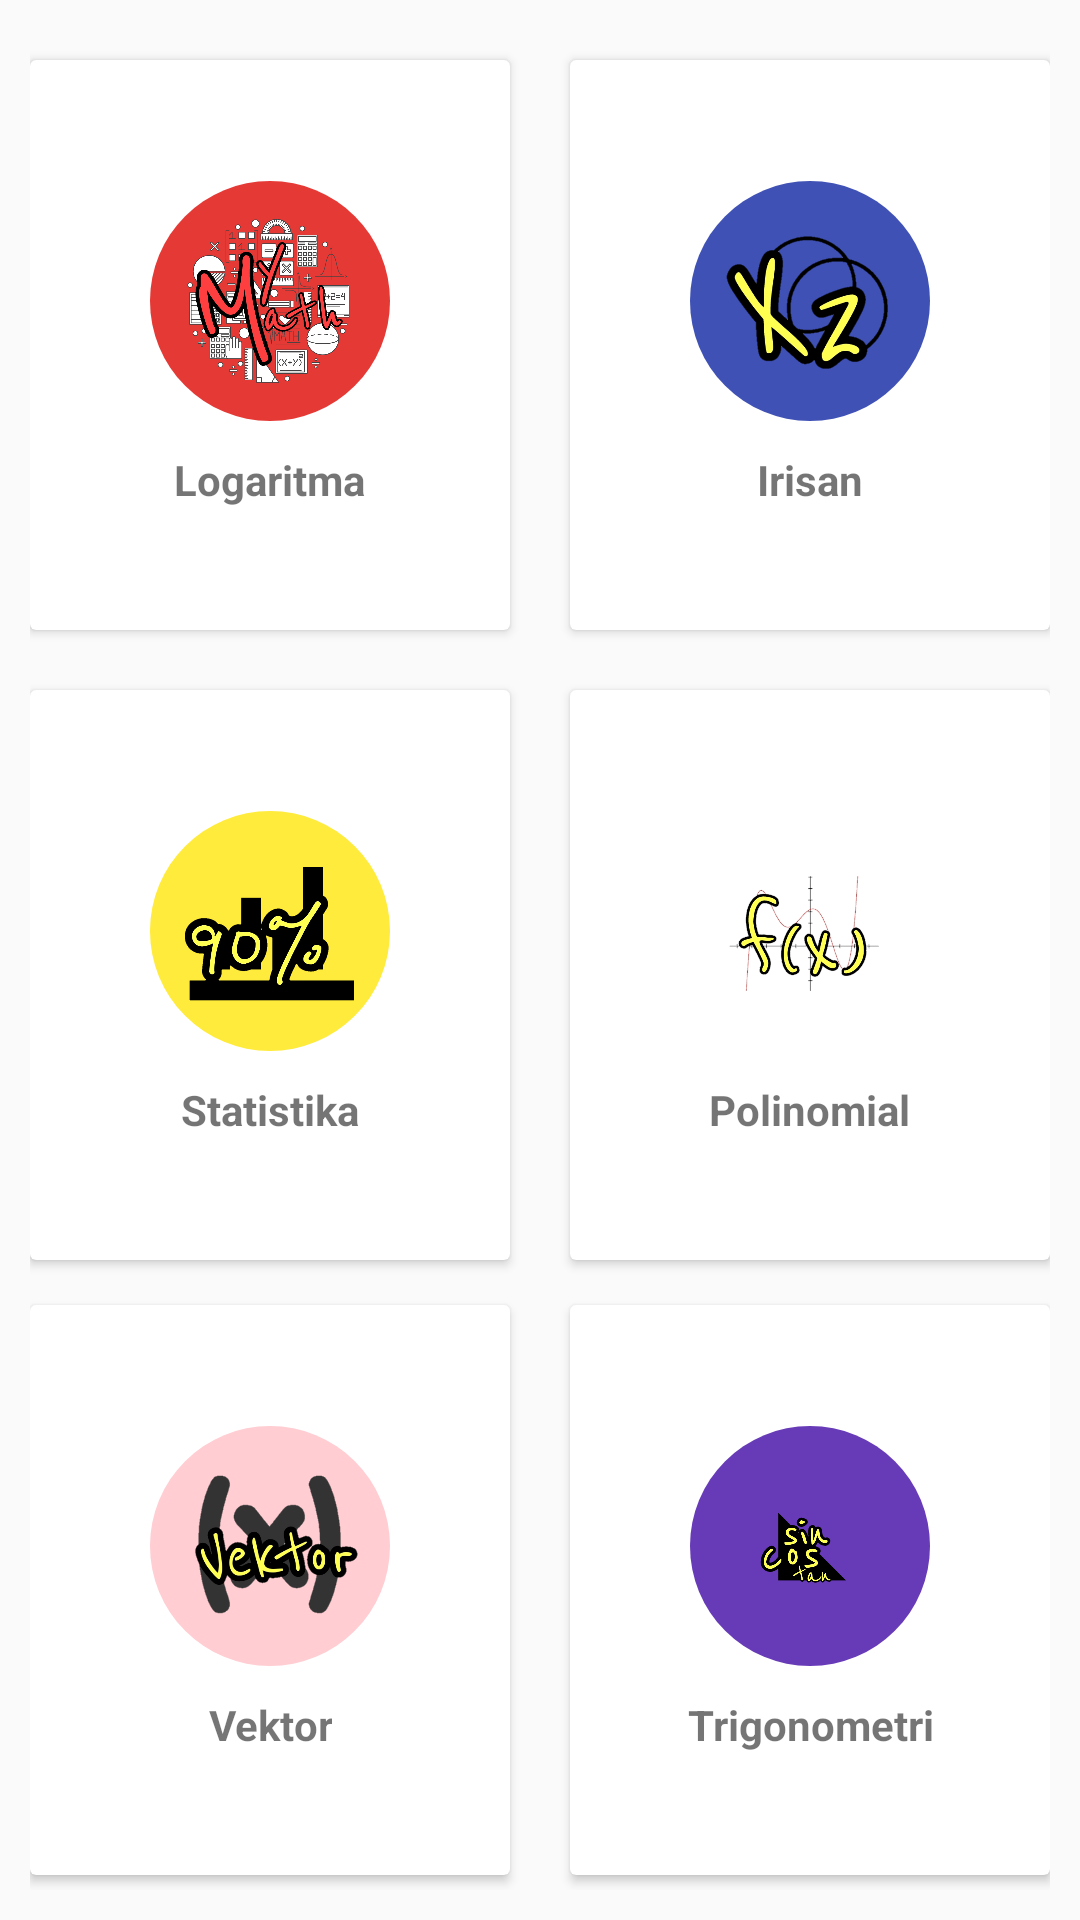

Screen size 1080x1920. Icon name, then its box in pixels as (x1, y1, x2, y2):
iconpolinomi: (730, 876, 879, 991)
